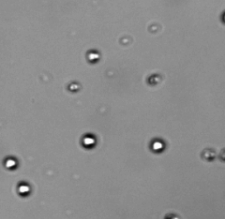Dead Cell: (201, 148, 215, 162), (146, 73, 162, 84), (68, 80, 80, 92)
Living Cell: (81, 133, 97, 149), (16, 181, 32, 196), (150, 137, 165, 152), (3, 156, 18, 169), (86, 50, 100, 62)
